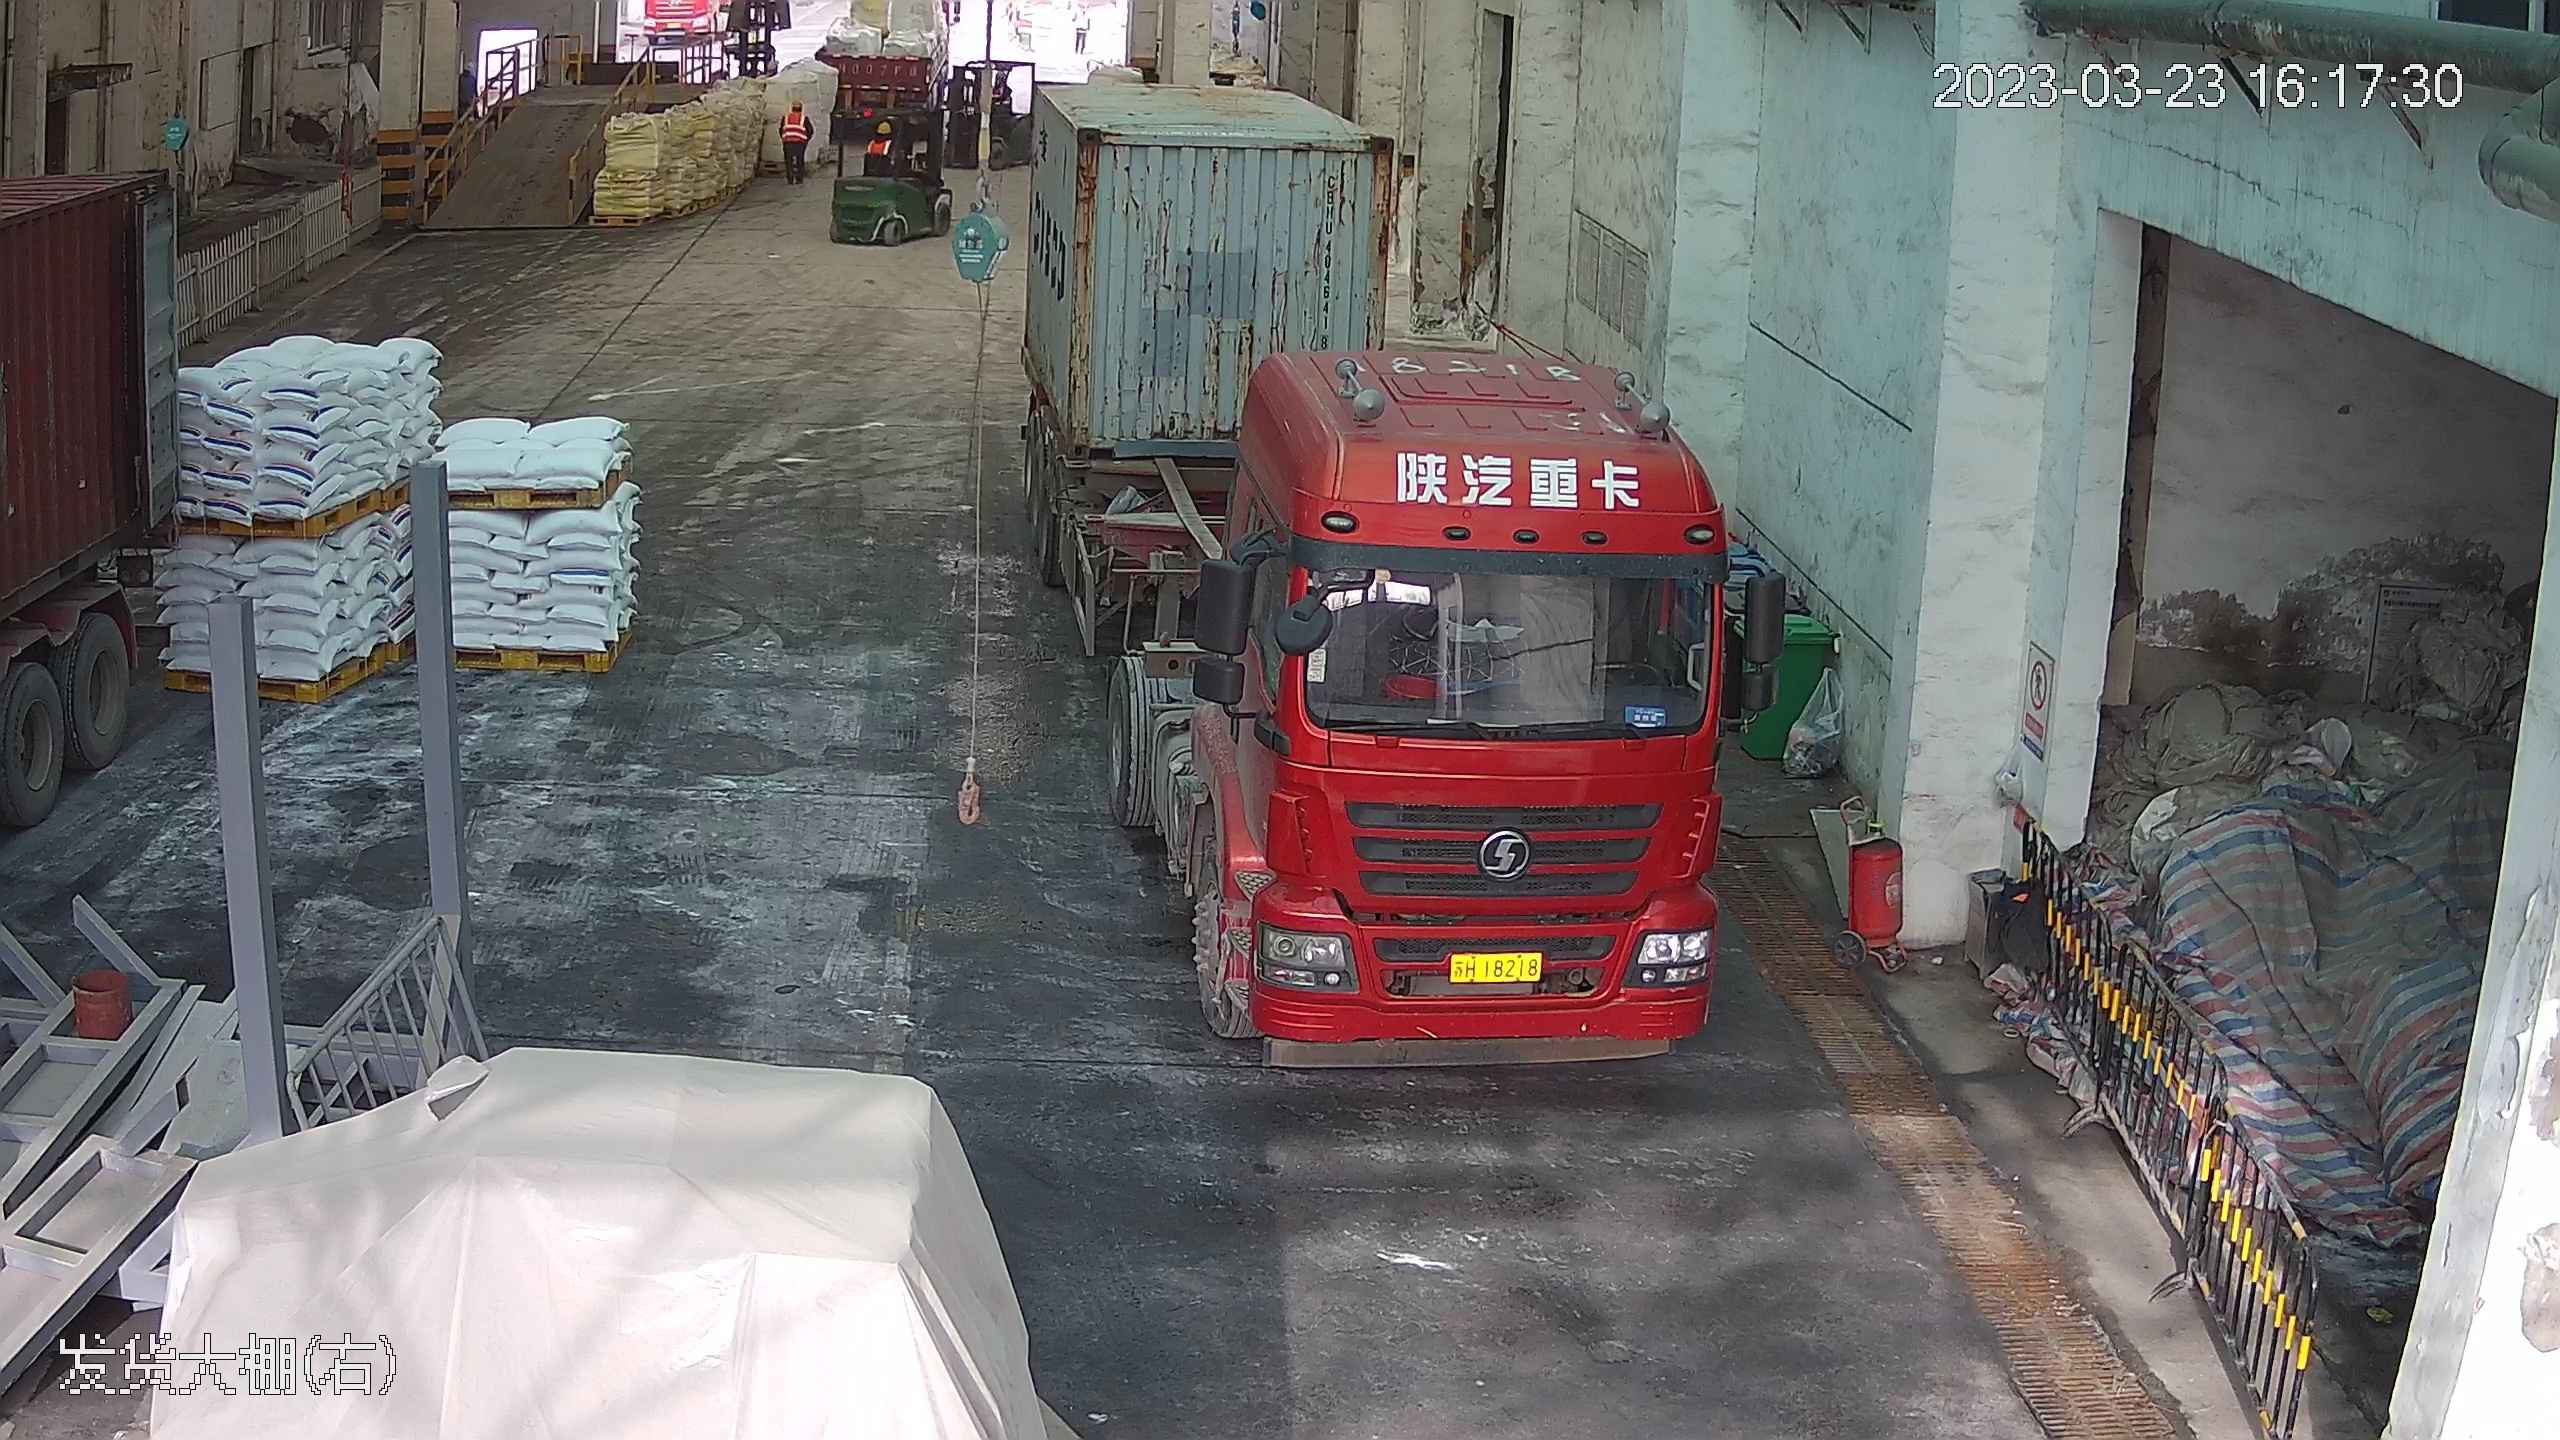head: (865, 111, 903, 156), (783, 106, 805, 129)
helmet: (875, 120, 892, 134), (790, 100, 803, 109)
people: (777, 99, 813, 180), (864, 111, 902, 166)
truck: (1010, 26, 1744, 1073), (1, 25, 194, 1019)
